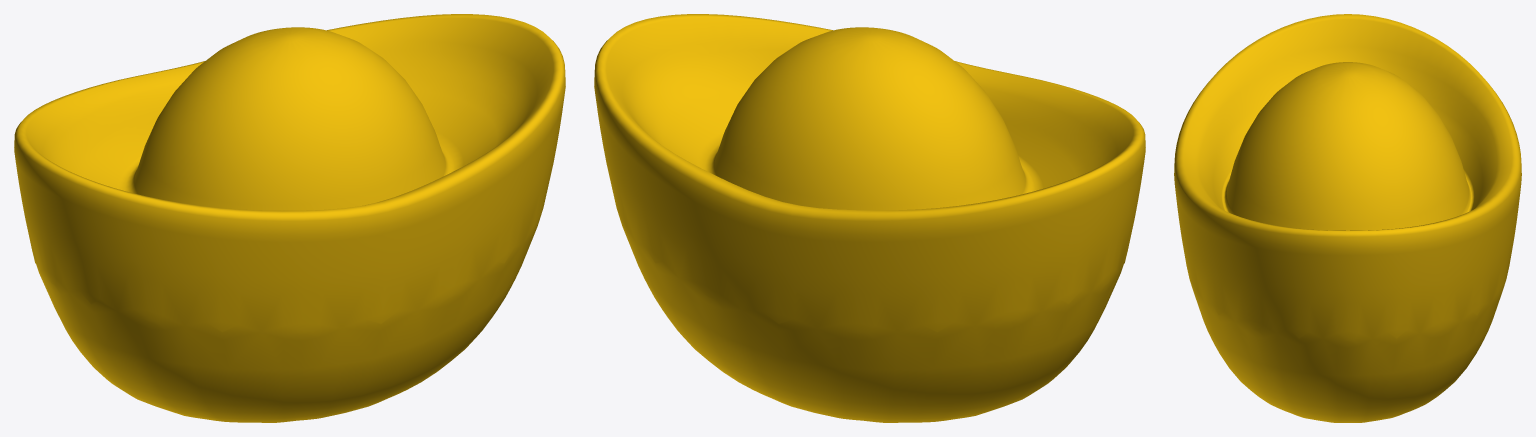
File: yuanbao.fbx
The picture shows the model from 3 angles, left to right: view 1: azimuth 30°, elevation 25°; view 2: azimuth 150°, elevation 25°; view 3: azimuth 270°, elevation 25°; orthographic projection. The views are drawn at different scales.
Visible parts, largest first — view 1: pSphere1; view 2: pSphere1; view 3: pSphere1.
Boxes of the visible parts, box(x1,y1,x2,y2) form: pSphere1: box(14, 14, 565, 422); pSphere1: box(594, 14, 1145, 422); pSphere1: box(1174, 14, 1521, 422).
Size of the model in its own units: 2.94 by 1.98 by 1.95.
